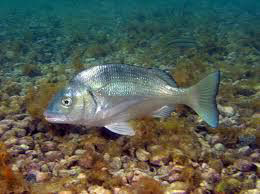kurodai: (38, 61, 229, 135)
